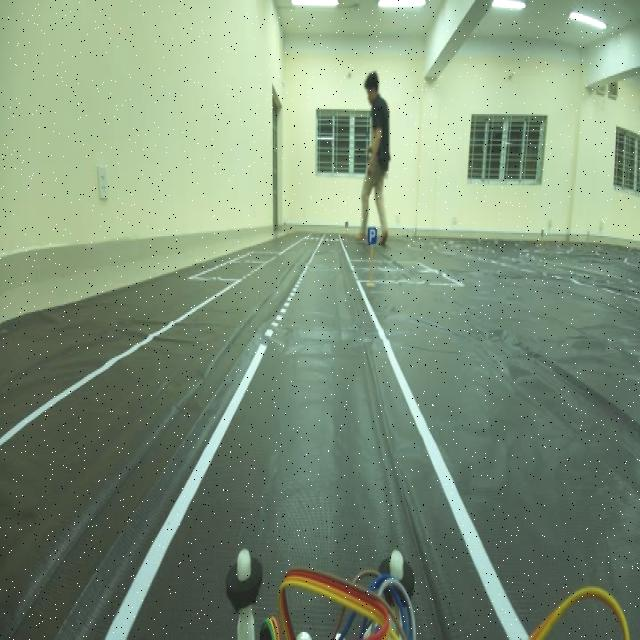parking: (364, 218, 378, 254)
